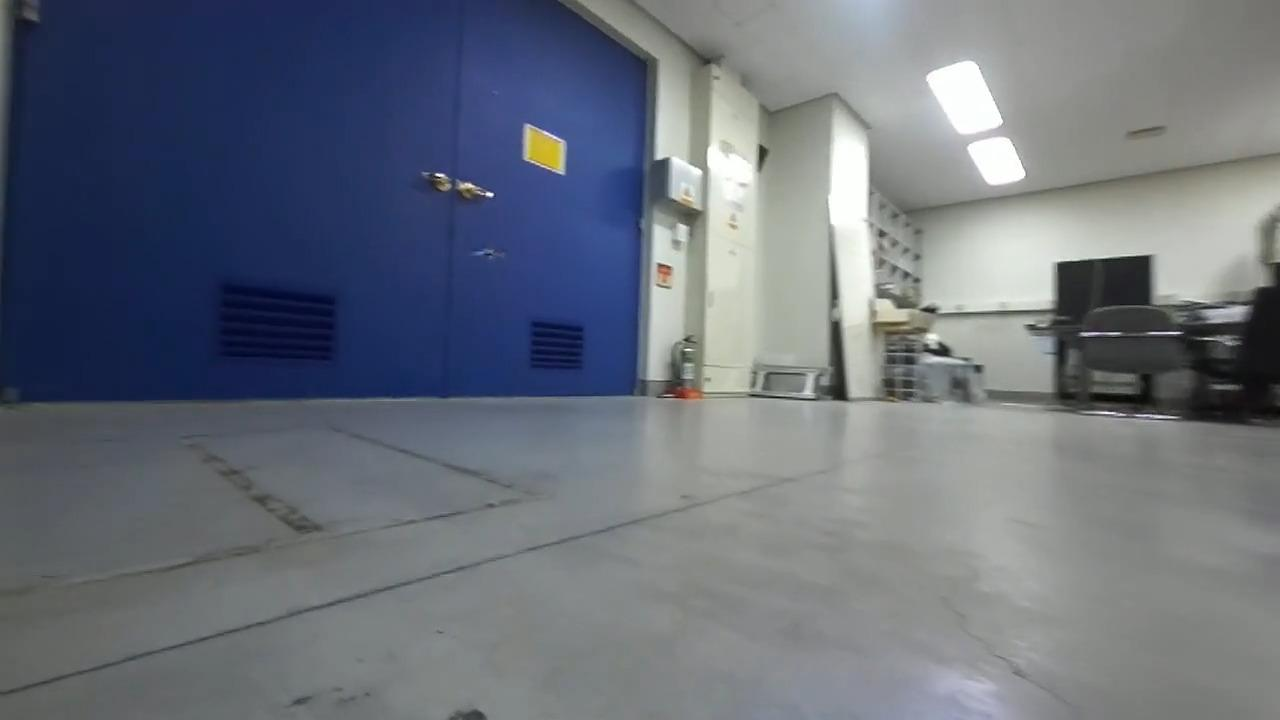crazyflie: (470, 244, 510, 264)
